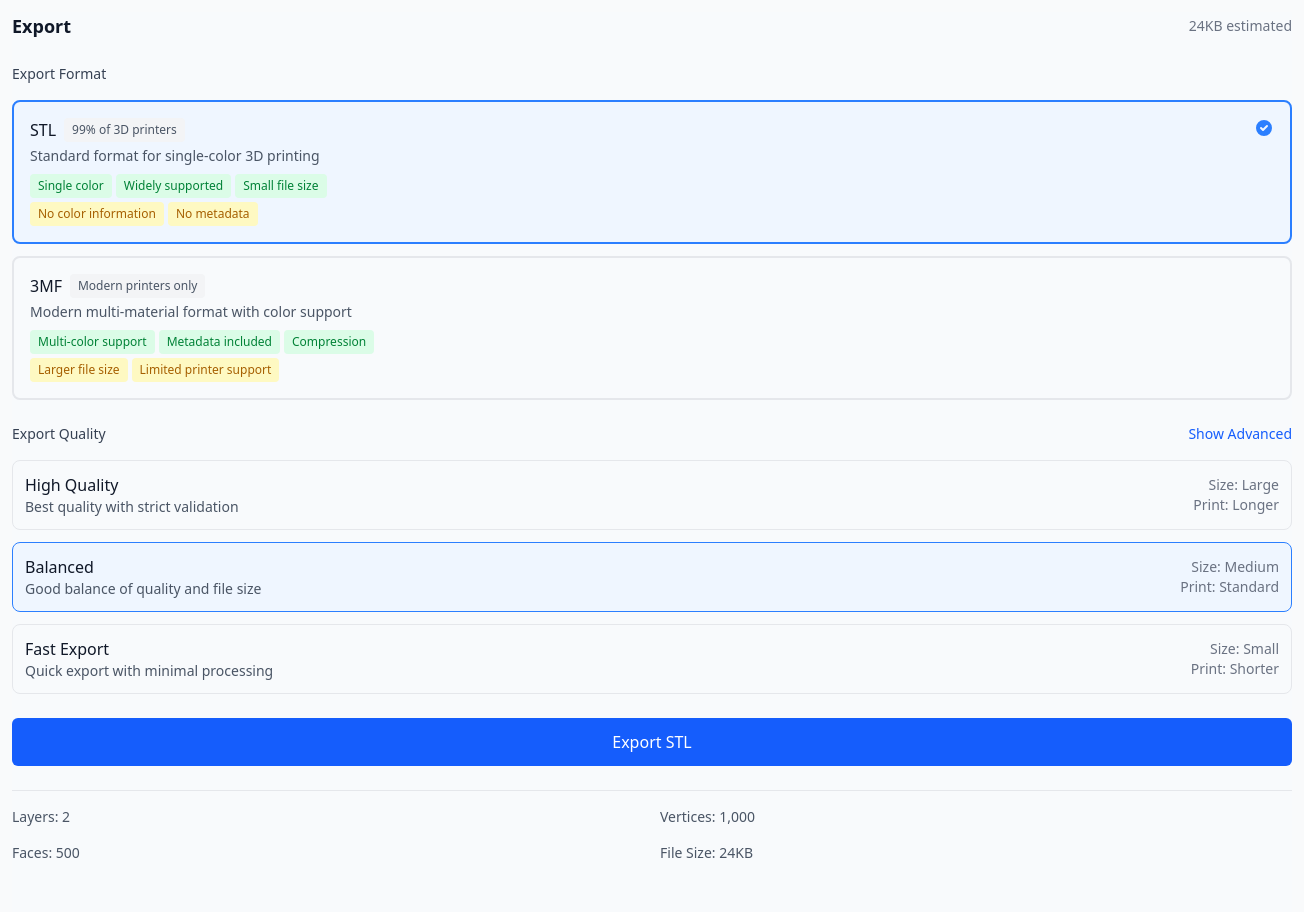
it: ExportPanel › shows 3MF-specific advanced options
// Select 3MF format
What coordinates should you click on to do the following:
click the radio button labelled "3MF"
I would click on:
 (652, 328)
Its box is [12,256,1292,400].
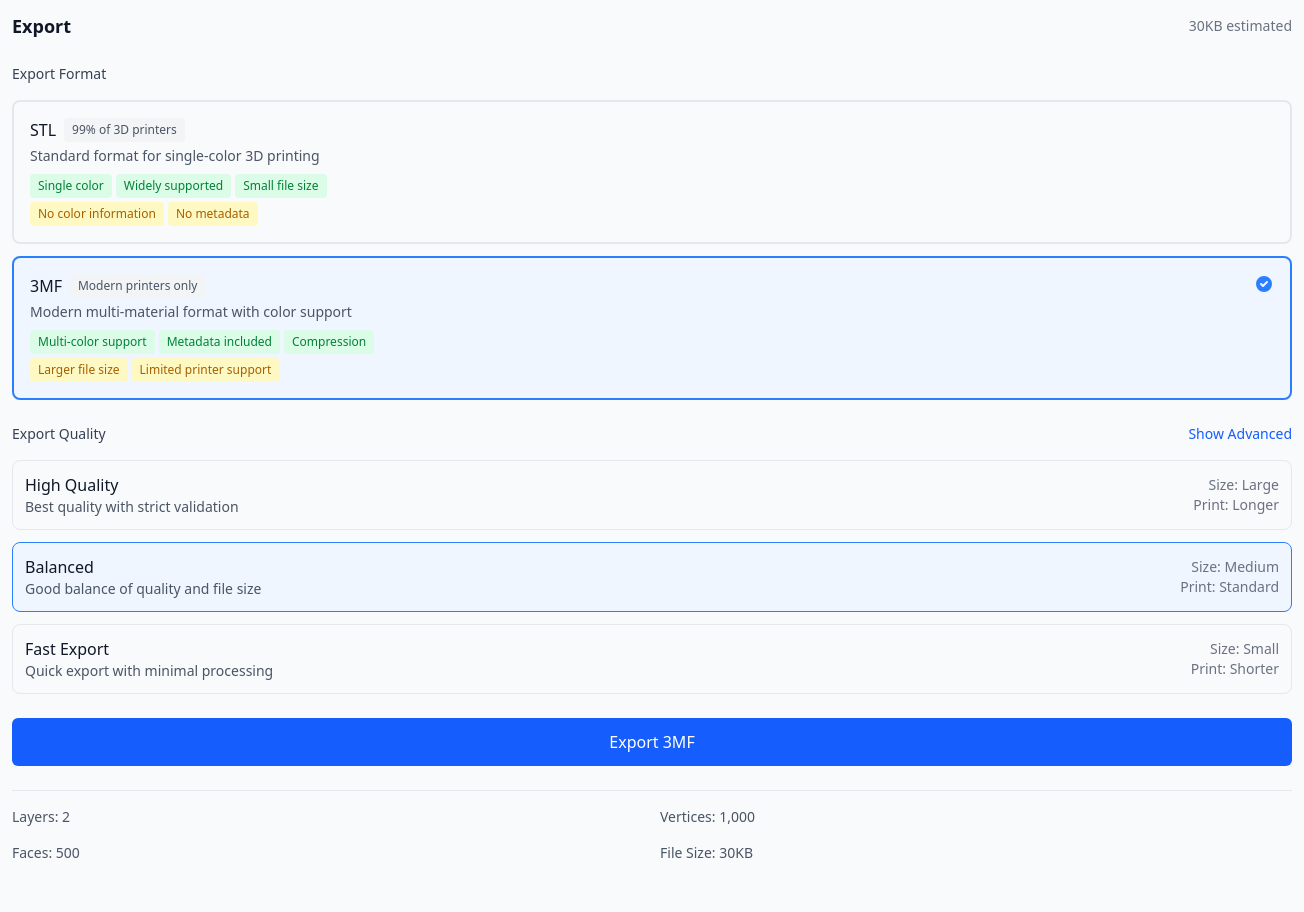
// Show advanced settings
What coordinates should you click on to do the following:
click the button "Show Advanced"
I would click on:
 (1240, 434)
Its box is [1188,424,1292,444].
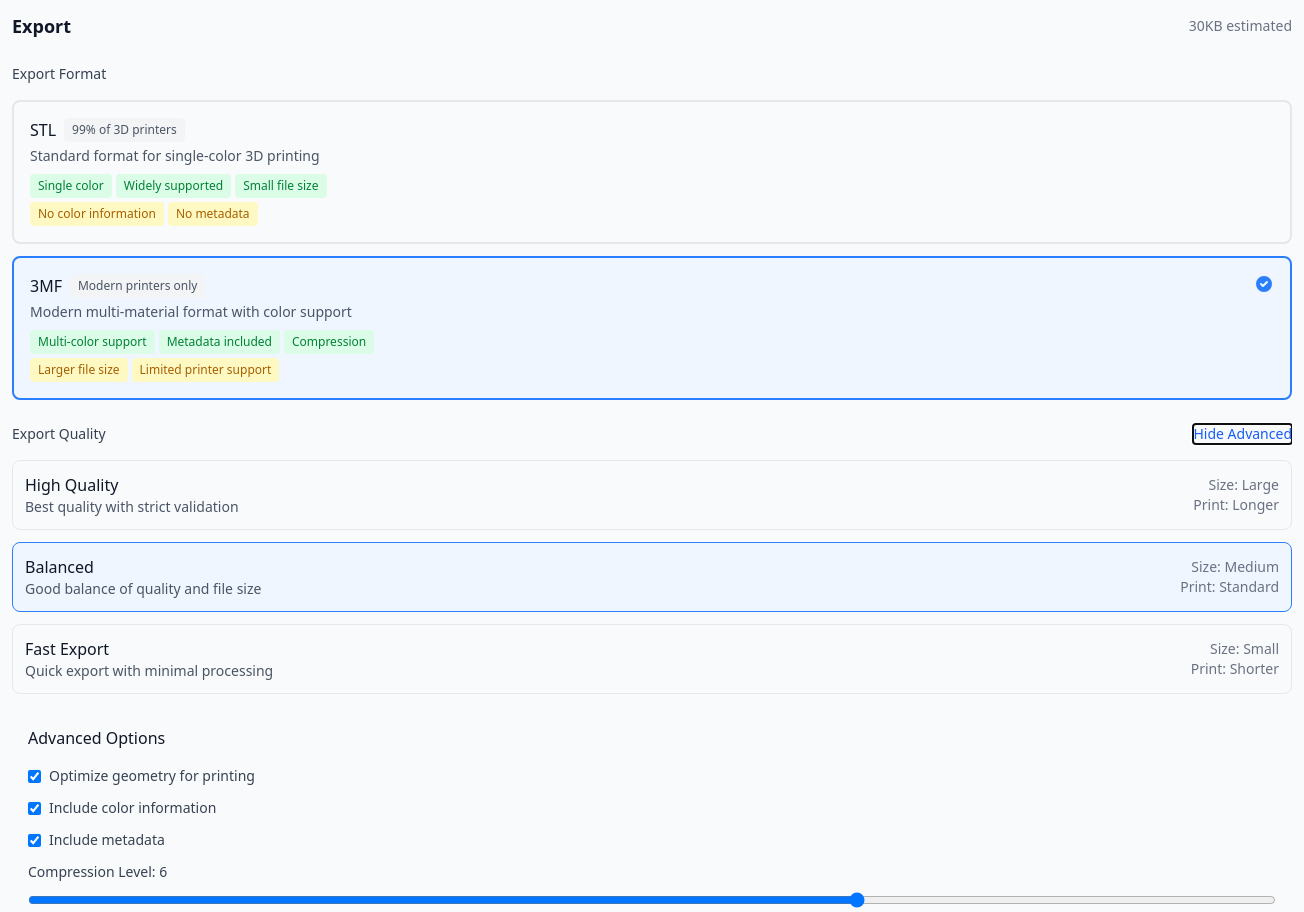
Expected: the text "Include color information" is shown, [49,798,216,818]
Expected: the text "Include metadata" is shown, [49,830,165,850]
Expected: the text "Compression Level: 6" is shown, [28,862,167,881]
